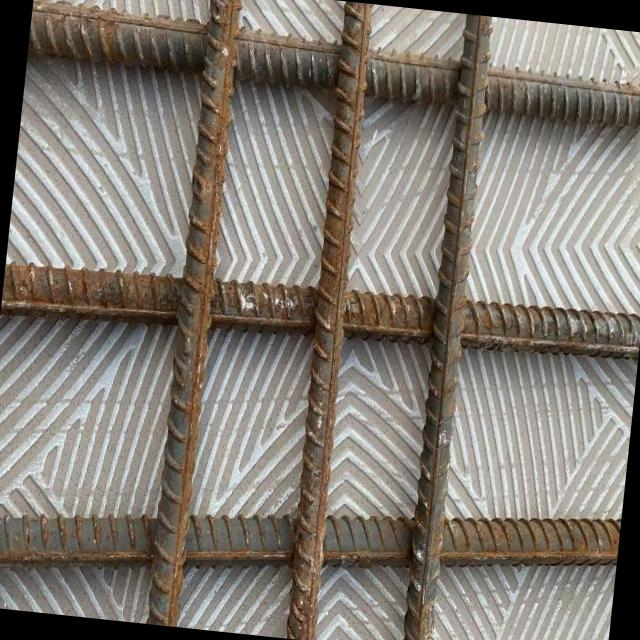ribbed bar: (0, 450, 621, 639), (0, 248, 640, 385), (26, 0, 640, 133), (276, 1, 382, 640), (142, 0, 245, 626), (396, 14, 497, 640)
